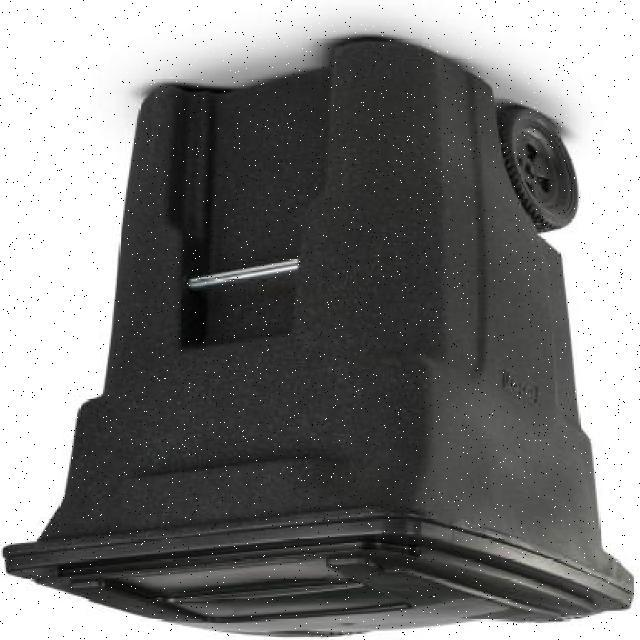garbage container: (2, 31, 640, 640)
